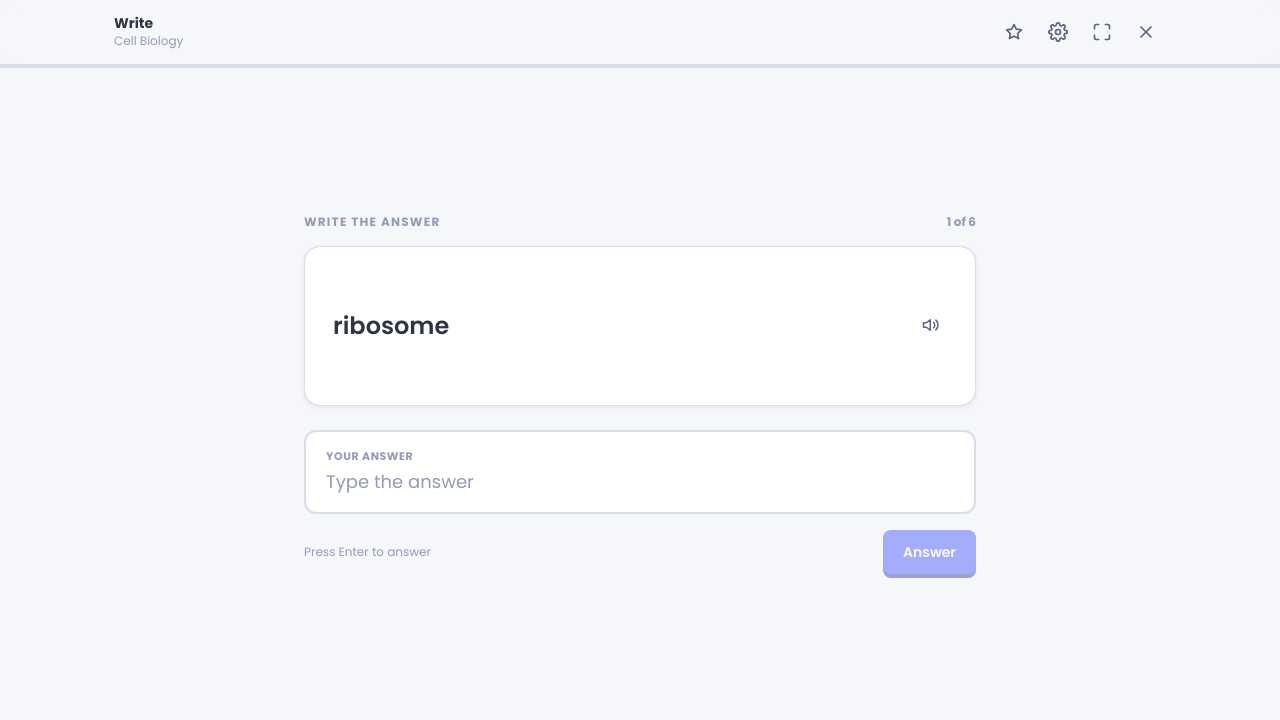
Test case: Write › makes you retype the answer after a miss before moving on
Type "nonsense" into the field named "your answer".
click(640, 482); type("nonsense")  # box x1=326 y1=468 x2=954 y2=496
Then press Enter
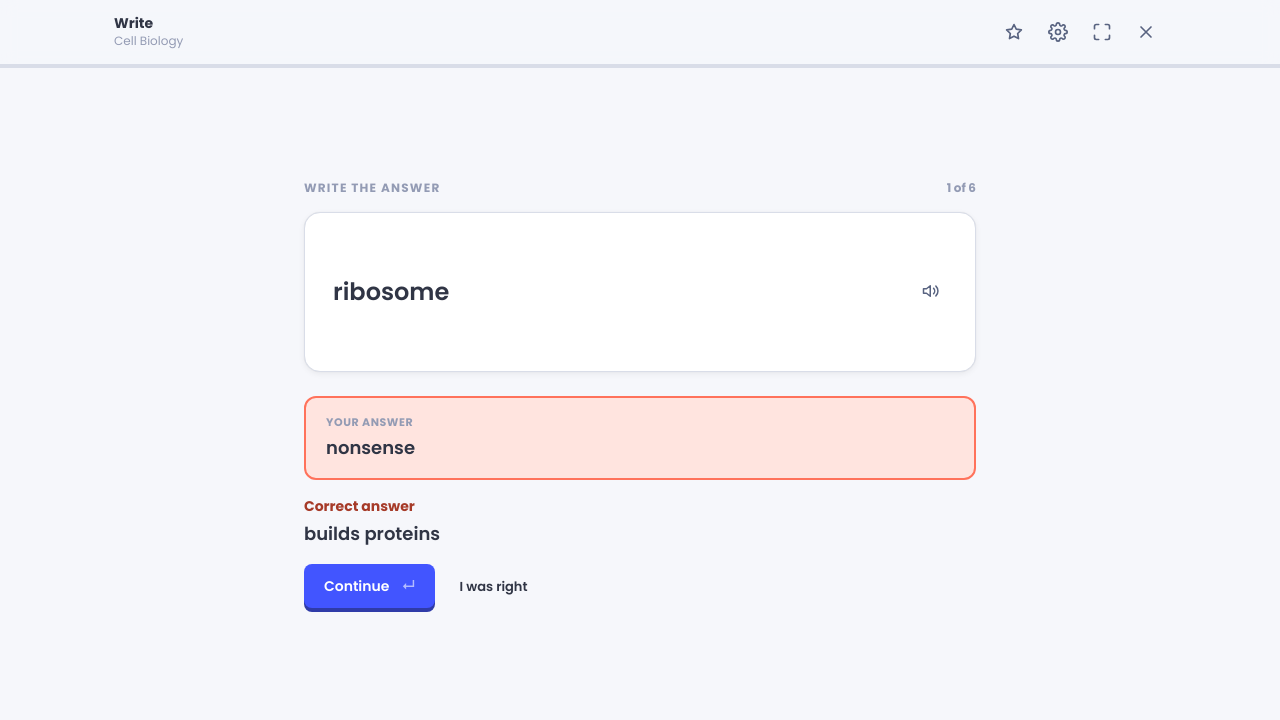
Result: the text "Correct answer" is shown at x1=304 y1=496 x2=415 y2=516
Click the button "Continue ↵".
click(370, 586)  # box x1=304 y1=564 x2=436 y2=608
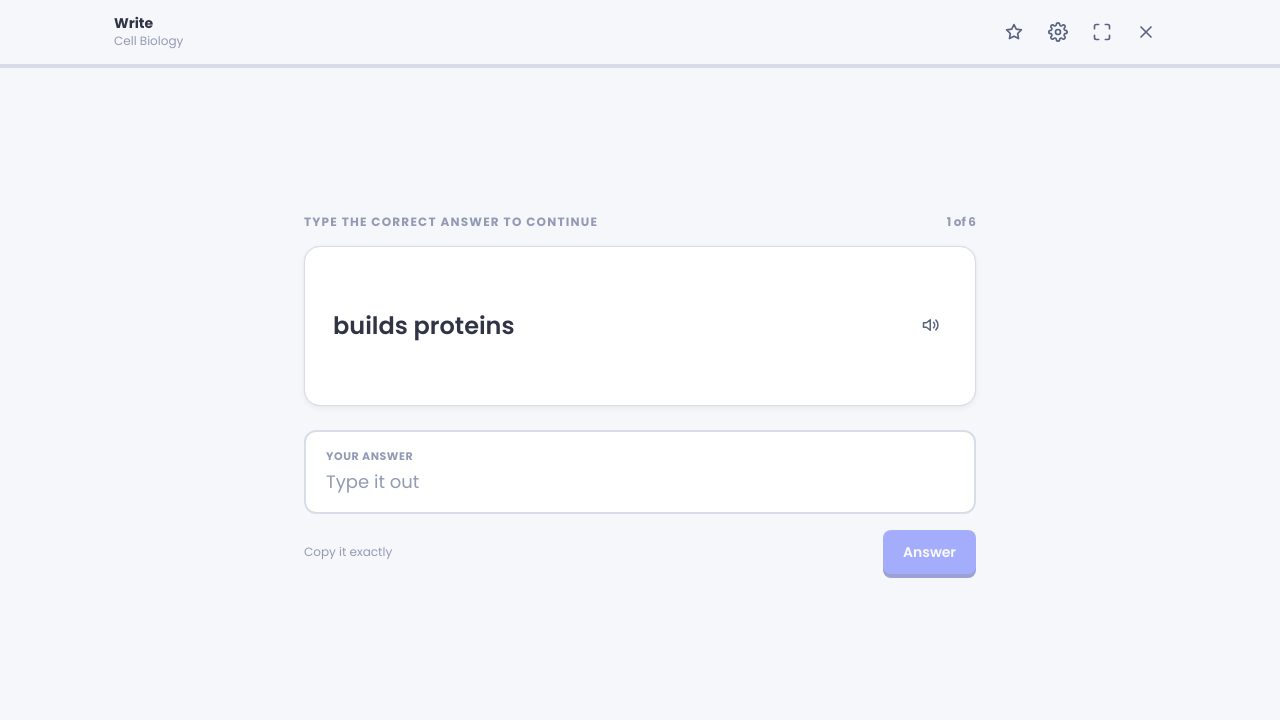
Result: the text "Type the correct answer to continue" is shown at x1=304 y1=214 x2=598 y2=230
// Still wrong: the question does not advance.
Type "still wrong" into the field named "your answer".
click(640, 482); type("still wrong")  # box x1=326 y1=468 x2=954 y2=496
Then press Enter
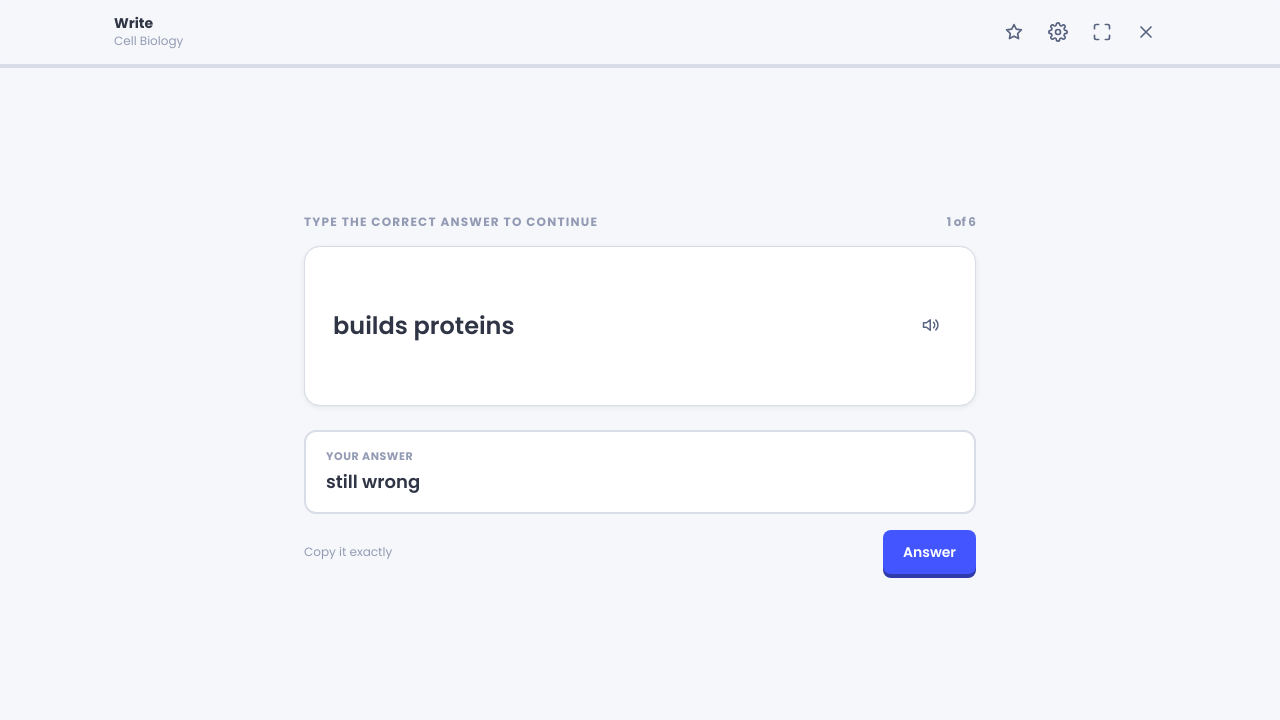
Result: the text "Type the correct answer to continue" is shown at x1=304 y1=214 x2=598 y2=230
Replace the text in the field named "your answer" with "builds proteins" at (640, 482), box x1=326 y1=468 x2=954 y2=496
Then press Enter
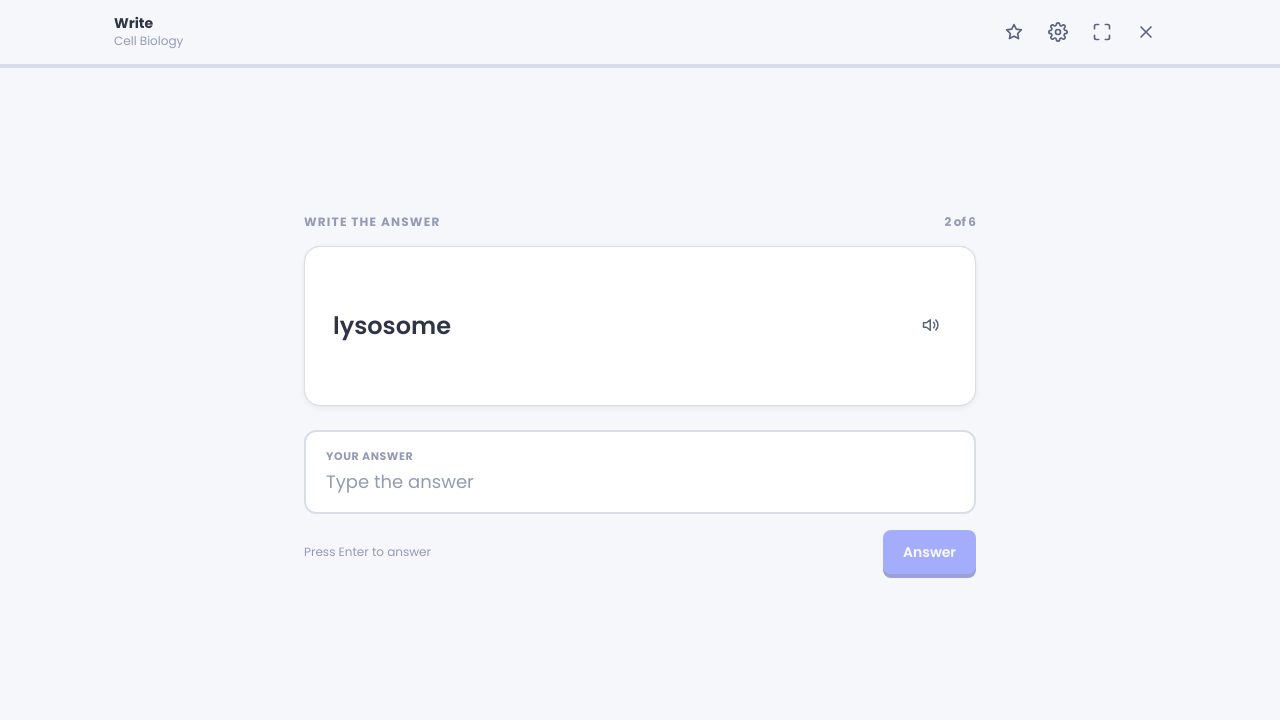
Result: the text "Write the answer" is shown at x1=304 y1=214 x2=440 y2=230
